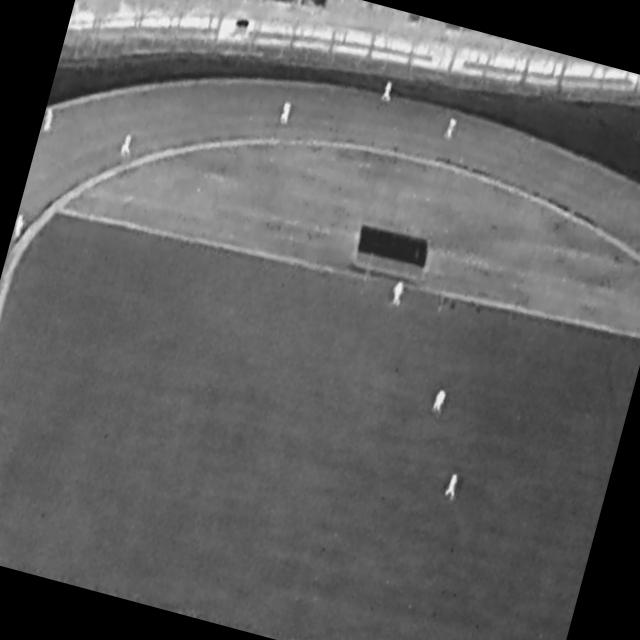person: (390, 281, 407, 308), (445, 474, 461, 502), (120, 133, 135, 159), (279, 100, 294, 126), (13, 213, 28, 239), (432, 390, 447, 416), (42, 108, 56, 134), (444, 118, 458, 140), (381, 81, 395, 103)
